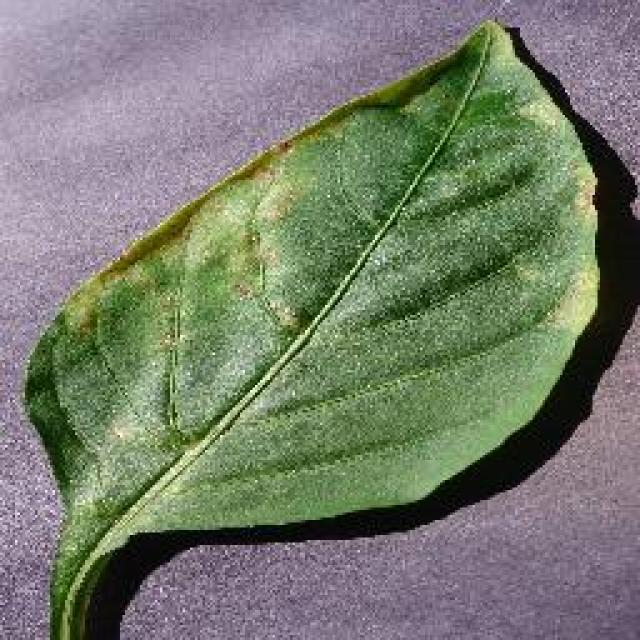Chilli_Bacterial_Spot: (18, 18, 608, 638), (222, 222, 310, 340), (258, 290, 308, 338), (508, 250, 548, 290)
